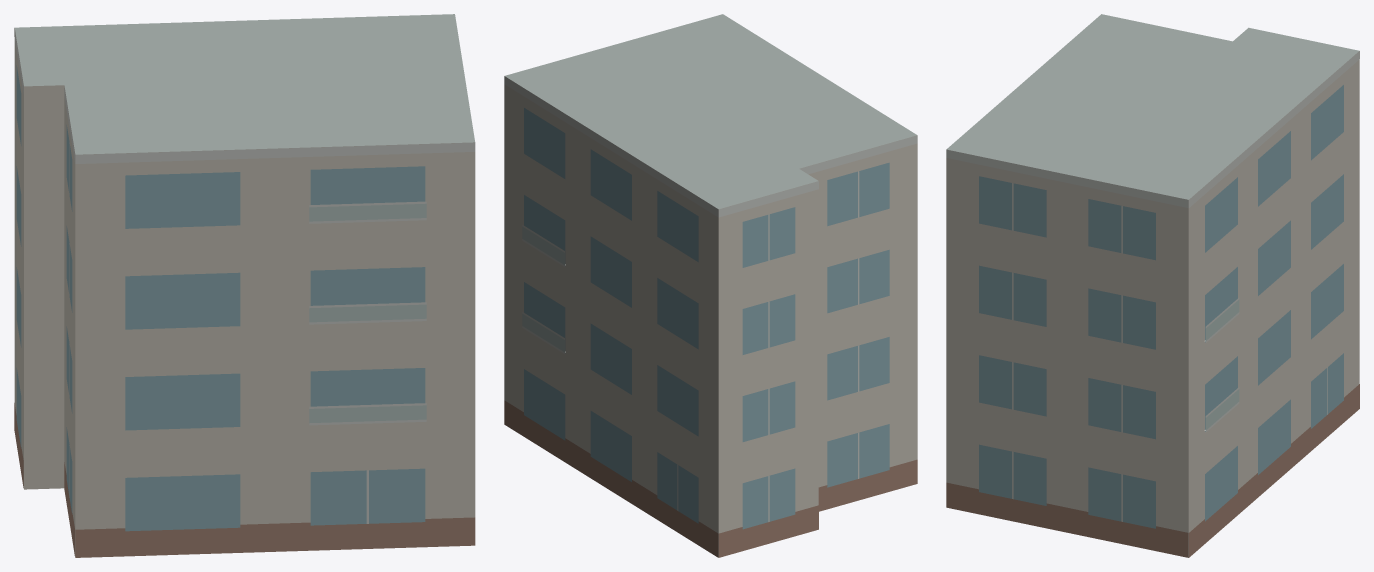
Rendered from survey-upis-32959991.glb.
The picture shows the model from 3 angles, left to right: view 1: azimuth 30°, elevation 25°; view 2: azimuth 150°, elevation 25°; view 3: azimuth 270°, elevation 25°; orthographic projection. The views are drawn at different scales.
Parts seen in each view (by area): view 1: survey-upis-32959991.tmp; view 2: survey-upis-32959991.tmp; view 3: survey-upis-32959991.tmp.
Boxes of the visible parts, bbox=[...] form: survey-upis-32959991.tmp: bbox=[14, 14, 475, 557]; survey-upis-32959991.tmp: bbox=[504, 14, 917, 557]; survey-upis-32959991.tmp: bbox=[946, 14, 1359, 557].
Bounding box in the file's own units: 11.59 × 10.4 × 10.89.
